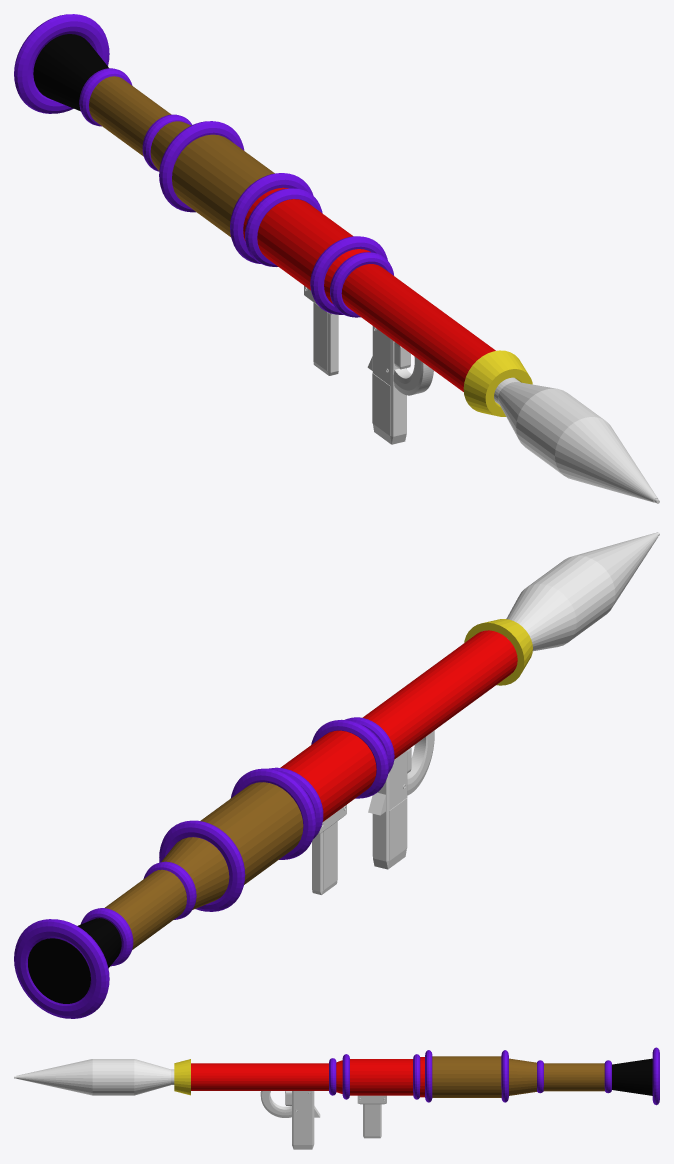
Rendered from RPG1.fbx.
3 views of the same model, one above another, from view 1: azimuth 30°, elevation 25°; view 2: azimuth 150°, elevation 25°; view 3: azimuth 270°, elevation 25° (orthographic). The views are drawn at different scales.
Visible parts, largest first — view 1: BaseCone.002, BaseCone.001, BaseCone.005, Cube, sec_TopHandle; view 2: BaseCone.001, BaseCone.002, BaseCone.005, Cube, sec_TopHandle; view 3: BaseCone.002, BaseCone.001, BaseCone.005, Cube, sec_TopHandle.
Part boxes in pixels (x1,y1,x2,y2): BaseCone.002: (89,93,532,416); BaseCone.001: (14,14,274,237); BaseCone.005: (494,377,659,503); Cube: (367,326,433,444); sec_TopHandle: (304,286,338,375); BaseCone.001: (14,782,303,1018); BaseCone.002: (87,619,532,921); BaseCone.005: (506,532,659,651); Cube: (368,730,434,869); sec_TopHandle: (312,805,346,894); BaseCone.002: (174,1050,432,1102); BaseCone.001: (432,1047,659,1105); BaseCone.005: (14,1059,174,1095); Cube: (260,1091,320,1149); sec_TopHandle: (357,1095,386,1138).
Bounding box in the file's own units: 40.53 × 74.12 × 445.
